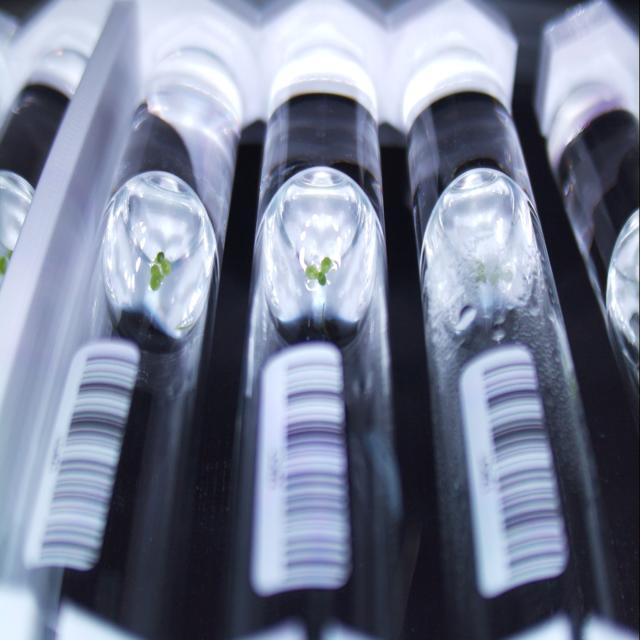Lemna-Gibba: (305, 257, 332, 285), (150, 264, 165, 290), (476, 260, 488, 284), (160, 259, 171, 275), (154, 252, 165, 263)
